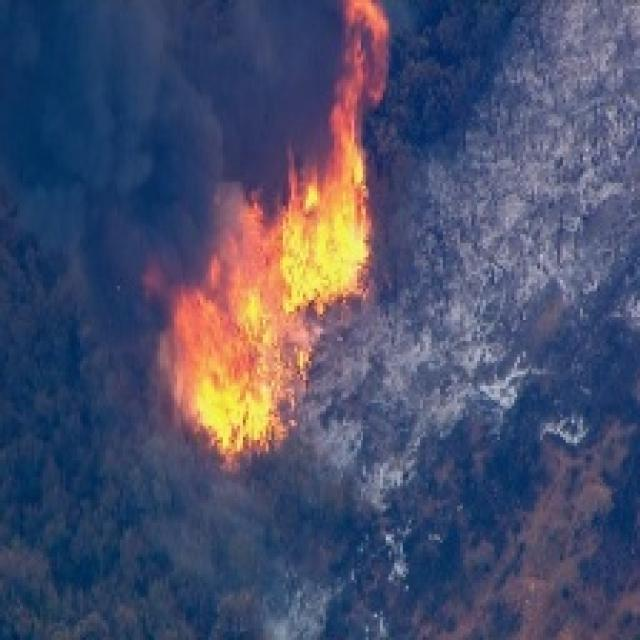Fire: (163, 205, 368, 450), (284, 1, 390, 205)
